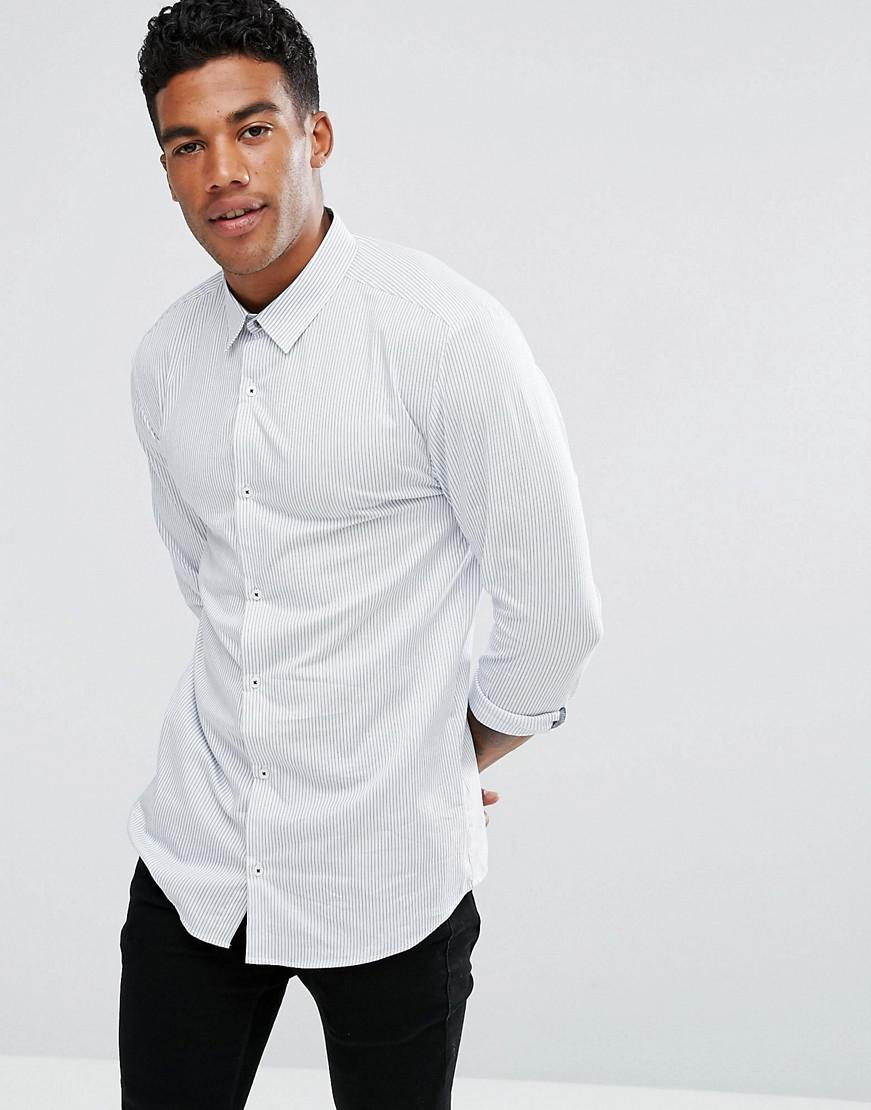teeshirt: (117, 274, 605, 949)
